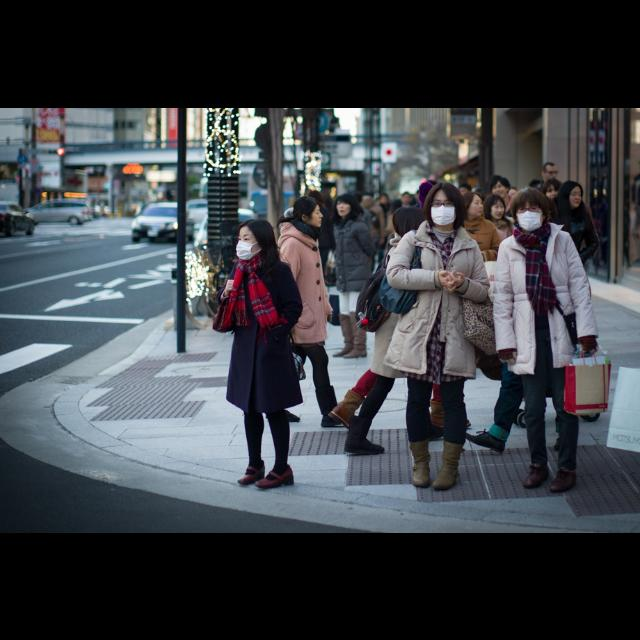head: (512, 186, 548, 232), (428, 180, 464, 226), (238, 218, 276, 258), (392, 206, 428, 238), (294, 196, 326, 228), (540, 178, 564, 206), (561, 180, 583, 208), (463, 190, 485, 216), (335, 193, 357, 217), (486, 194, 506, 220), (491, 174, 511, 198)
person: (488, 185, 614, 502), (386, 176, 492, 494), (328, 201, 462, 437), (210, 216, 306, 489), (268, 190, 360, 430), (532, 176, 604, 382), (436, 189, 504, 371), (327, 192, 381, 360), (466, 191, 522, 353), (526, 176, 578, 338), (480, 172, 518, 316)
